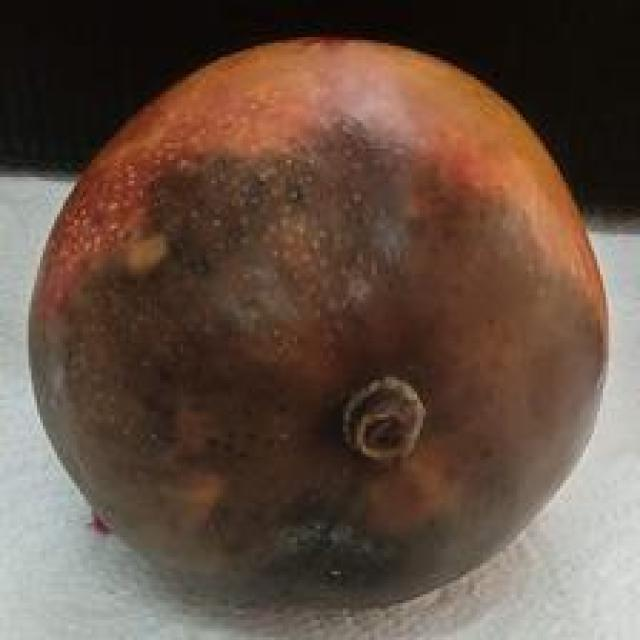Bad_Mango: (32, 44, 608, 598)
